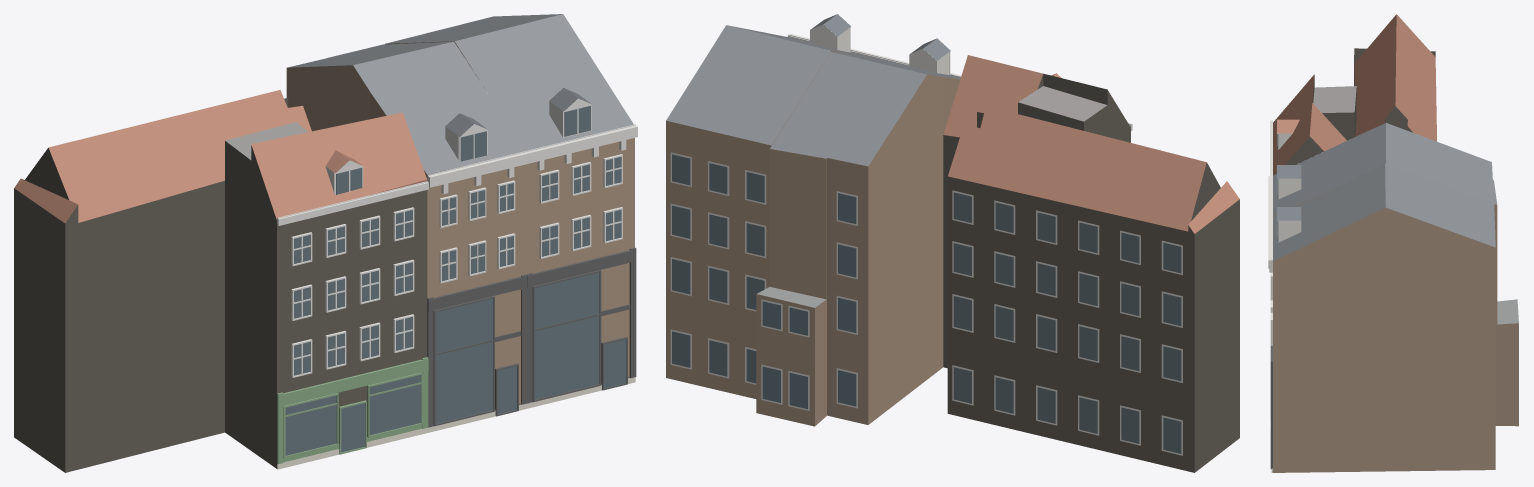
File: chunk-face-bilder-159426-165632.glb
3 views of the same model, side by side, from view 1: azimuth 30°, elevation 25°; view 2: azimuth 150°, elevation 25°; view 3: azimuth 270°, elevation 25° (orthographic). The views are drawn at different scales.
Visible parts, largest first — view 1: face-bilder-159426-165632; view 2: face-bilder-159426-165632; view 3: face-bilder-159426-165632.
Part boxes in pixels (x1,y1,x2,y2): face-bilder-159426-165632: [14, 14, 637, 472]; face-bilder-159426-165632: [666, 14, 1239, 472]; face-bilder-159426-165632: [1268, 14, 1518, 472].
Bounding box in the file's own units: 29.18 × 17.01 × 14.67.
